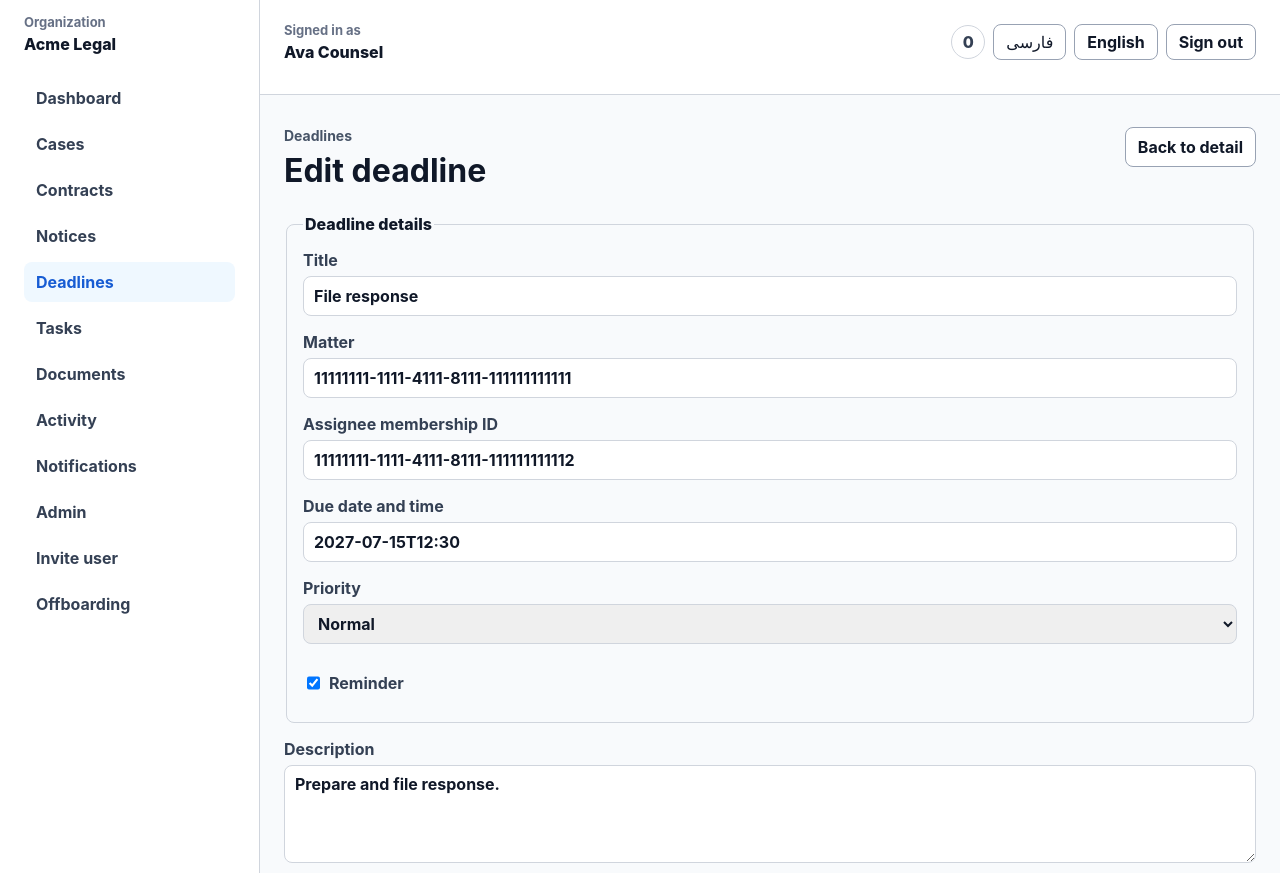
Test case: shows version conflict and rate-limit messages
The width and height of the screenshot is (1280, 873).
Step 1. Replace the text in the field labelled "Title" with "Updated response deadline" → (770, 296), box [303,276,1237,316]
(page scrolled)
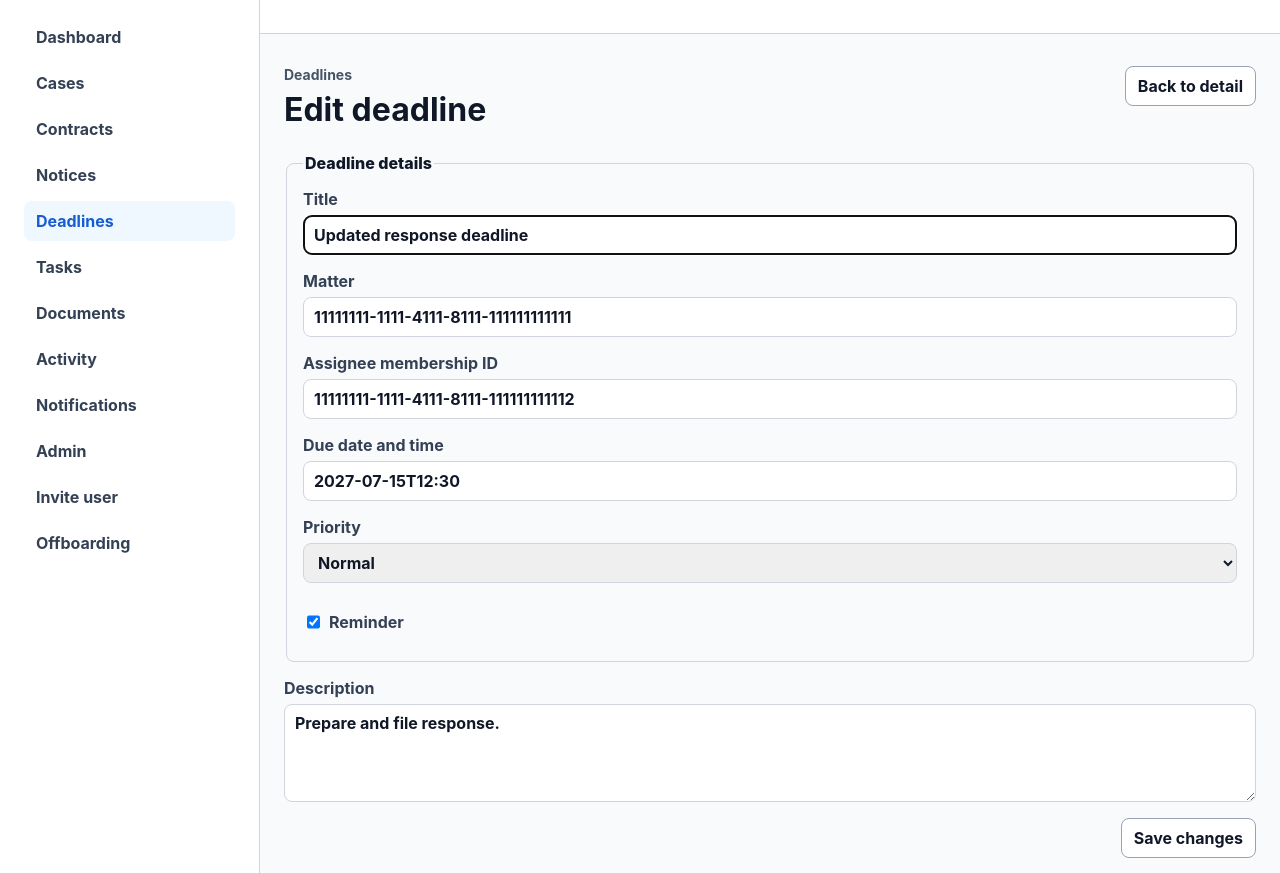
Step 2. Click the button "Save changes" → click(1188, 838), box [1121,818,1256,858]
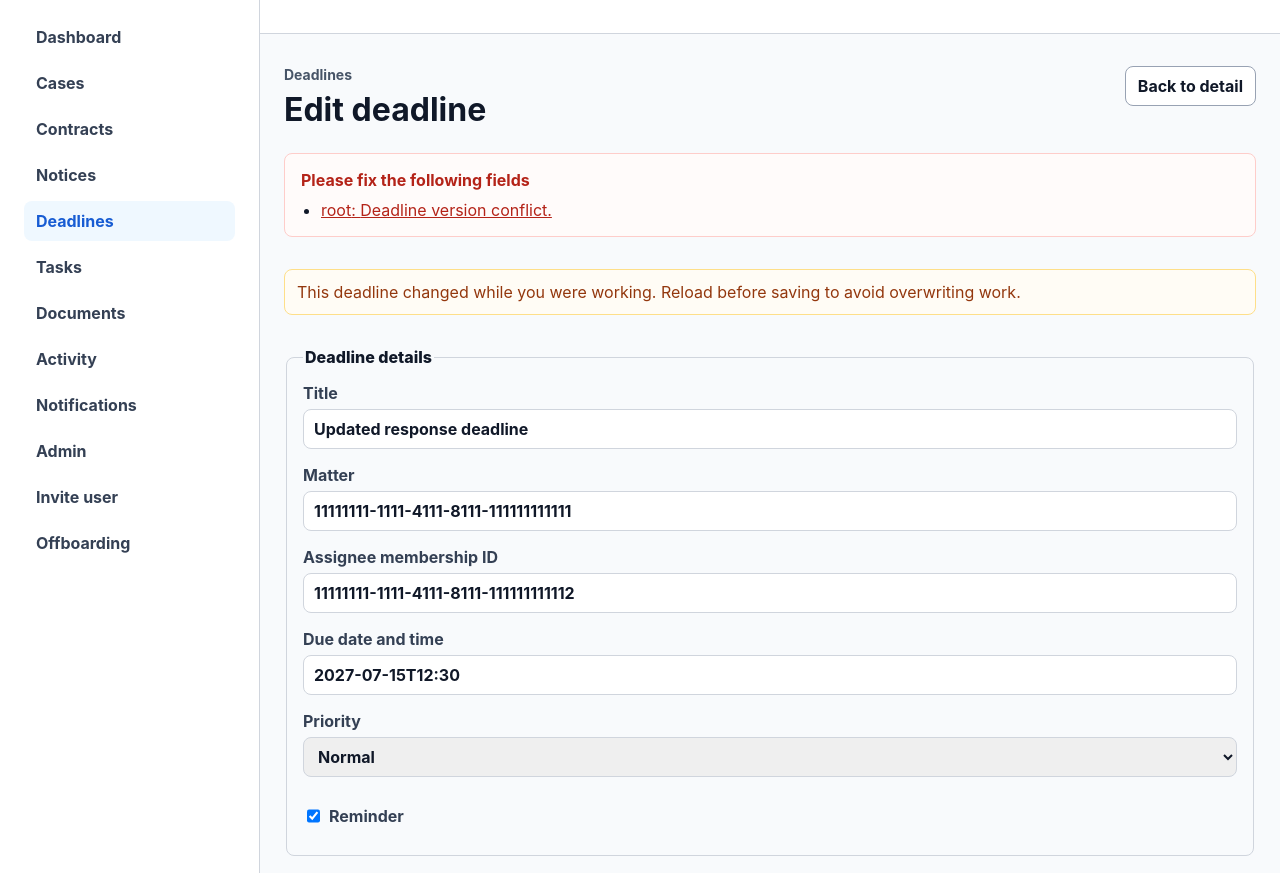
Expected: the text "changed while you were working" is shown, [297,282,1021,302]
